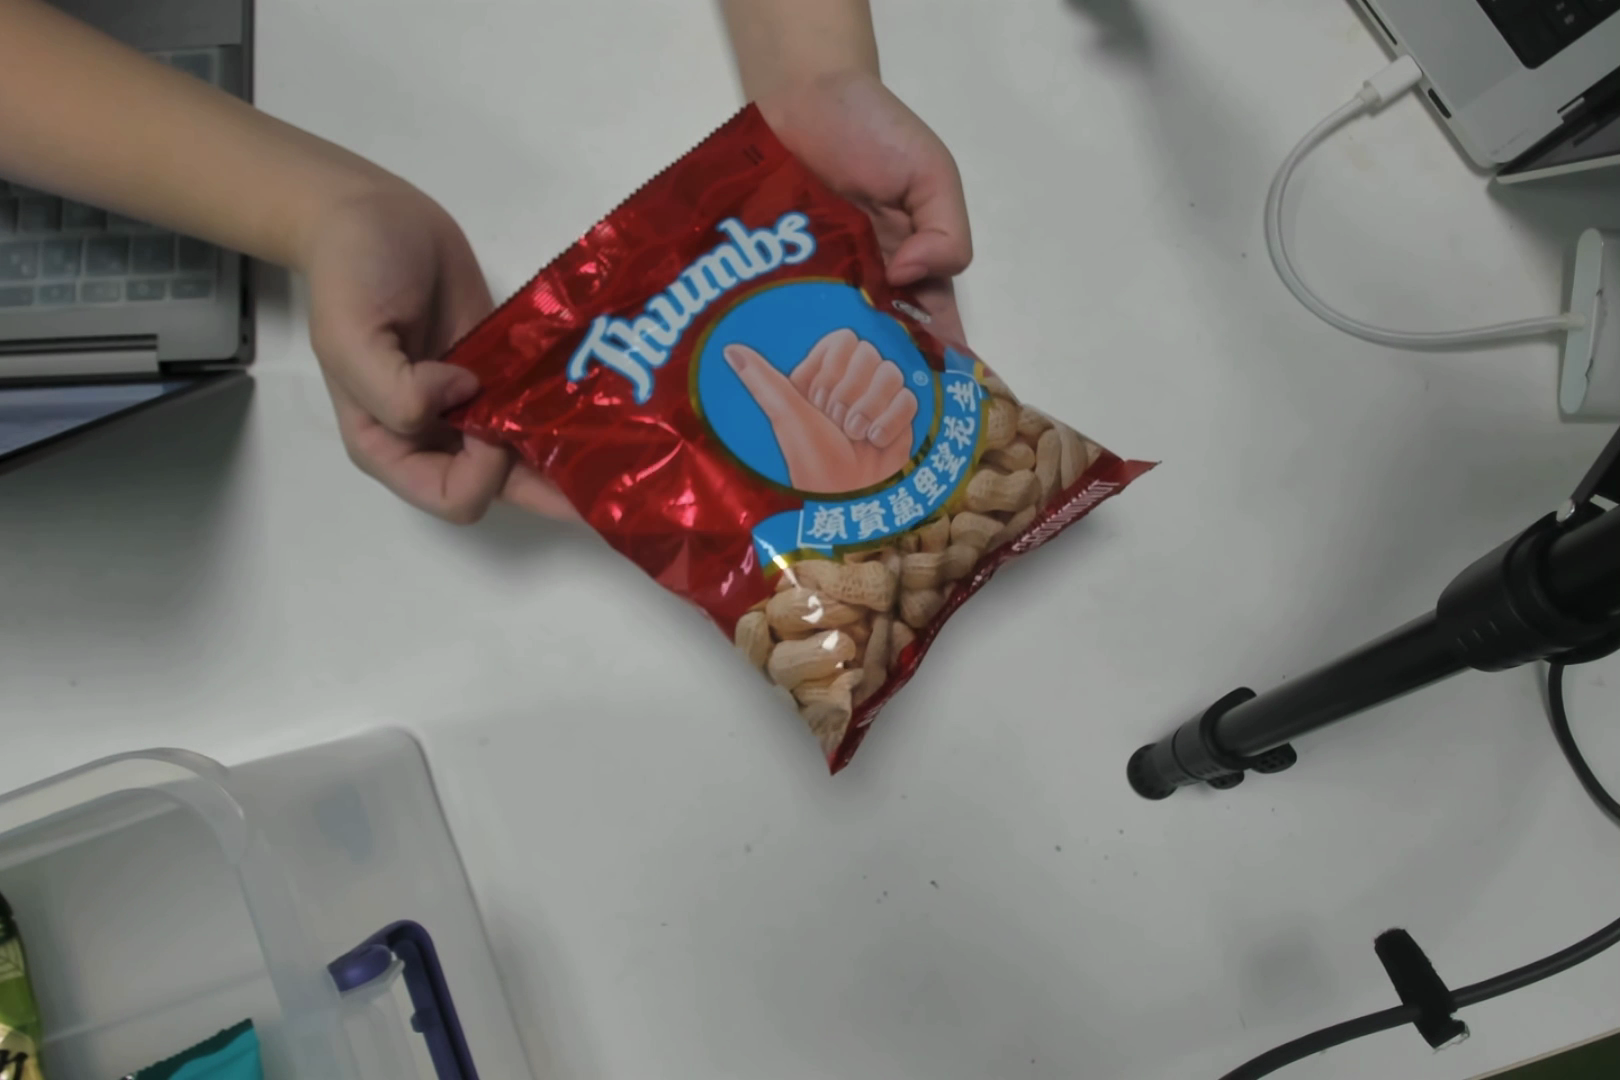Nuts_100-199g_Halal_NonHealthy: (607, 162, 1052, 722)
